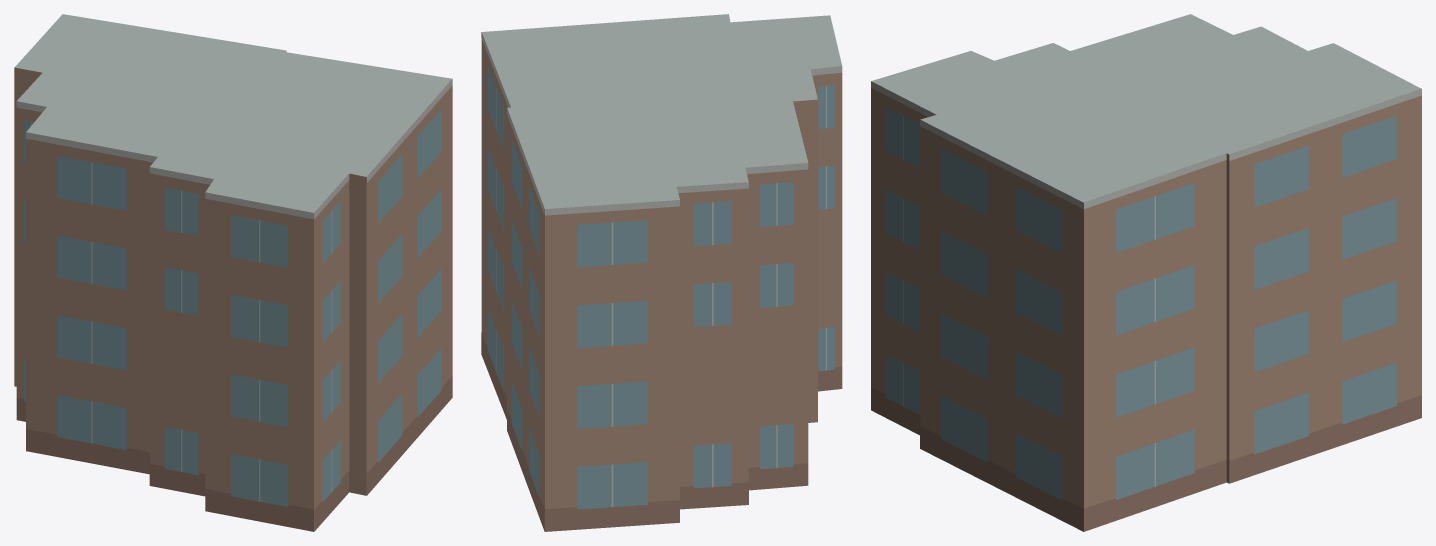
The model's file is survey-upis-32630638.glb.
The picture shows the model from 3 angles, left to right: view 1: azimuth 30°, elevation 25°; view 2: azimuth 150°, elevation 25°; view 3: azimuth 270°, elevation 25°; orthographic projection. The views are drawn at different scales.
Parts seen in each view (by area): view 1: survey-upis-32630638.tmp; view 2: survey-upis-32630638.tmp; view 3: survey-upis-32630638.tmp.
Boxes of the visible parts, left/top/right/bottom form: survey-upis-32630638.tmp: left=14, top=14, right=452, bottom=531; survey-upis-32630638.tmp: left=481, top=14, right=842, bottom=531; survey-upis-32630638.tmp: left=871, top=14, right=1421, bottom=531.
Size of the model in its own units: 14.91 by 12.12 by 18.39.
